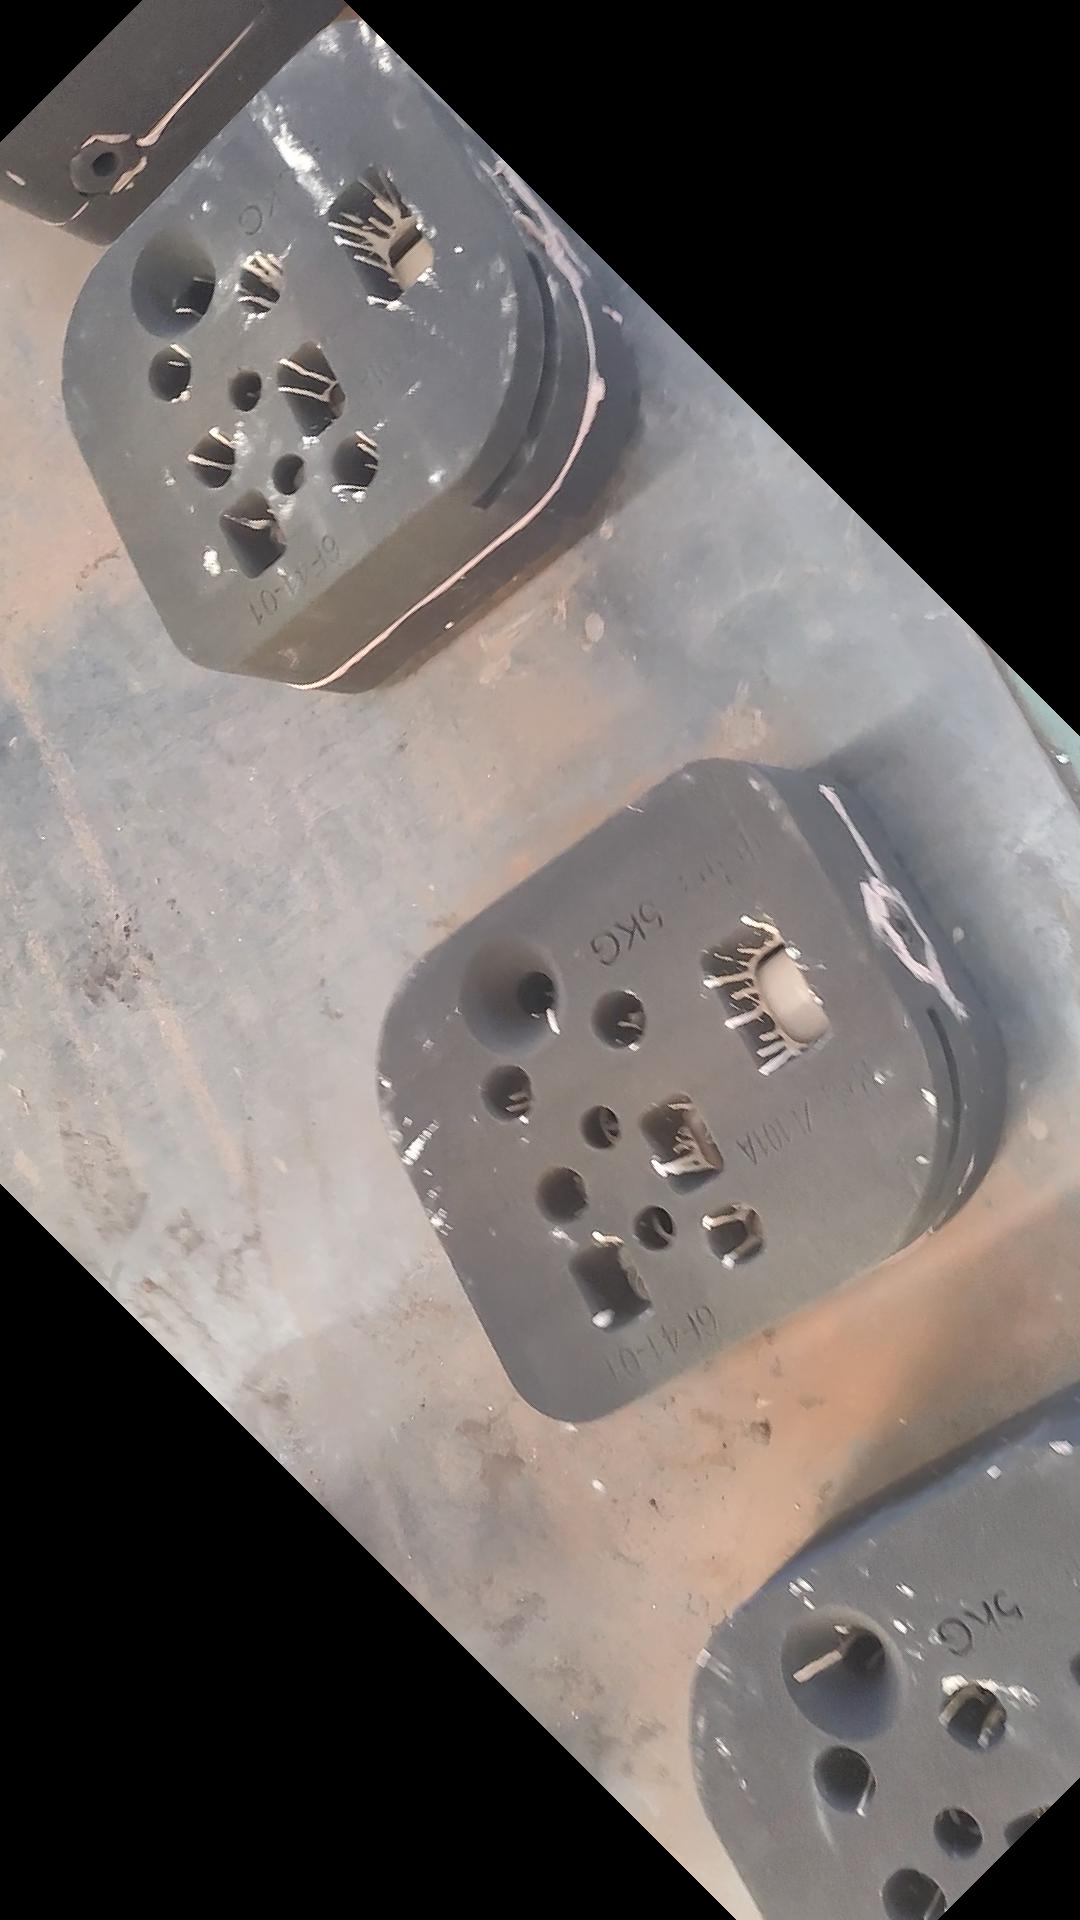pouring hole: (781, 1604, 907, 1750), (454, 936, 564, 1059), (127, 222, 218, 344)
